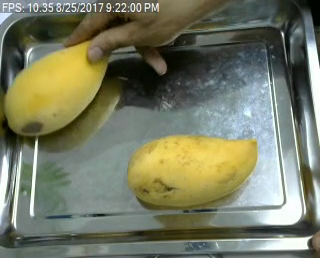Mango: (4, 36, 110, 135), (126, 134, 259, 208)
